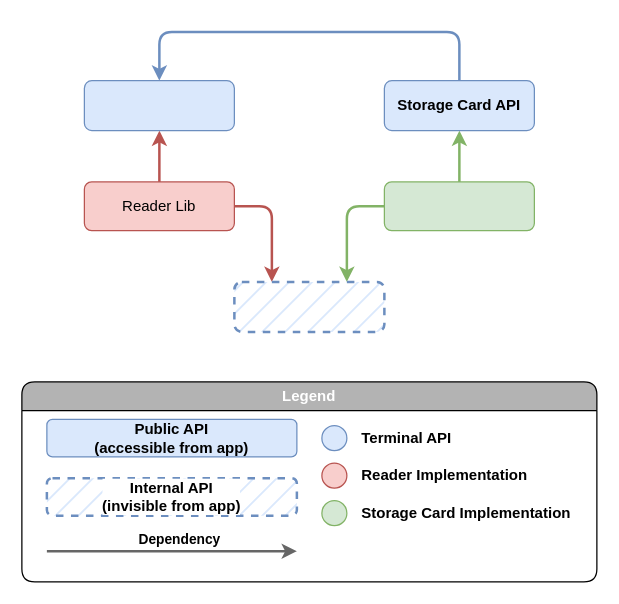
This 619x604 diagram has some shape labels left out. Here are the shapes that lost their labels. From the top down, the centre of each, then its label:
At point (158, 105): "Reader API".
At point (458, 206): "Storage Card Lib".
At point (308, 306): "Card API".
